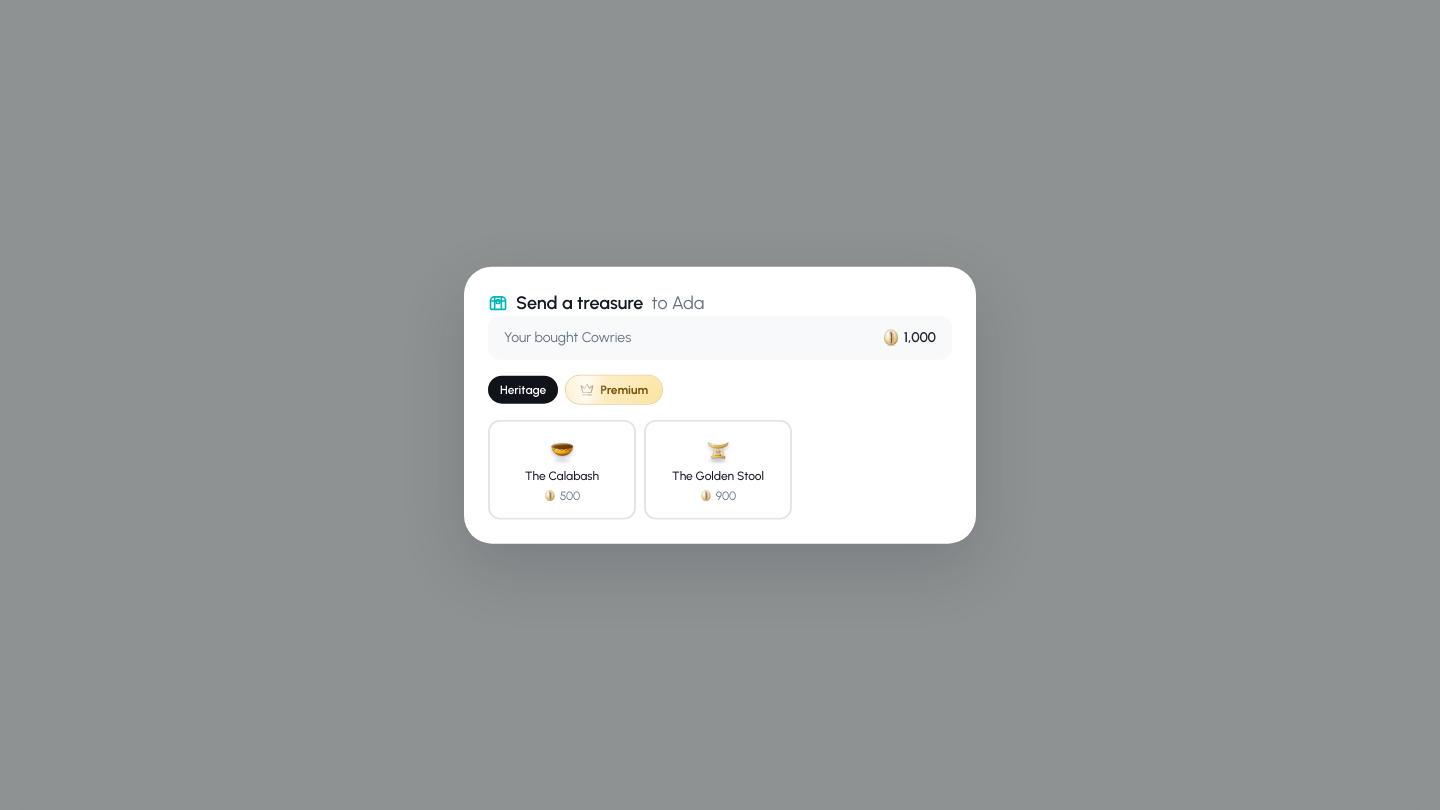
previewing a treasure before sending it › previews the chosen treasure with its name and price
Click the button "The Calabash 500" at point(562, 469), box [488,419,636,519]
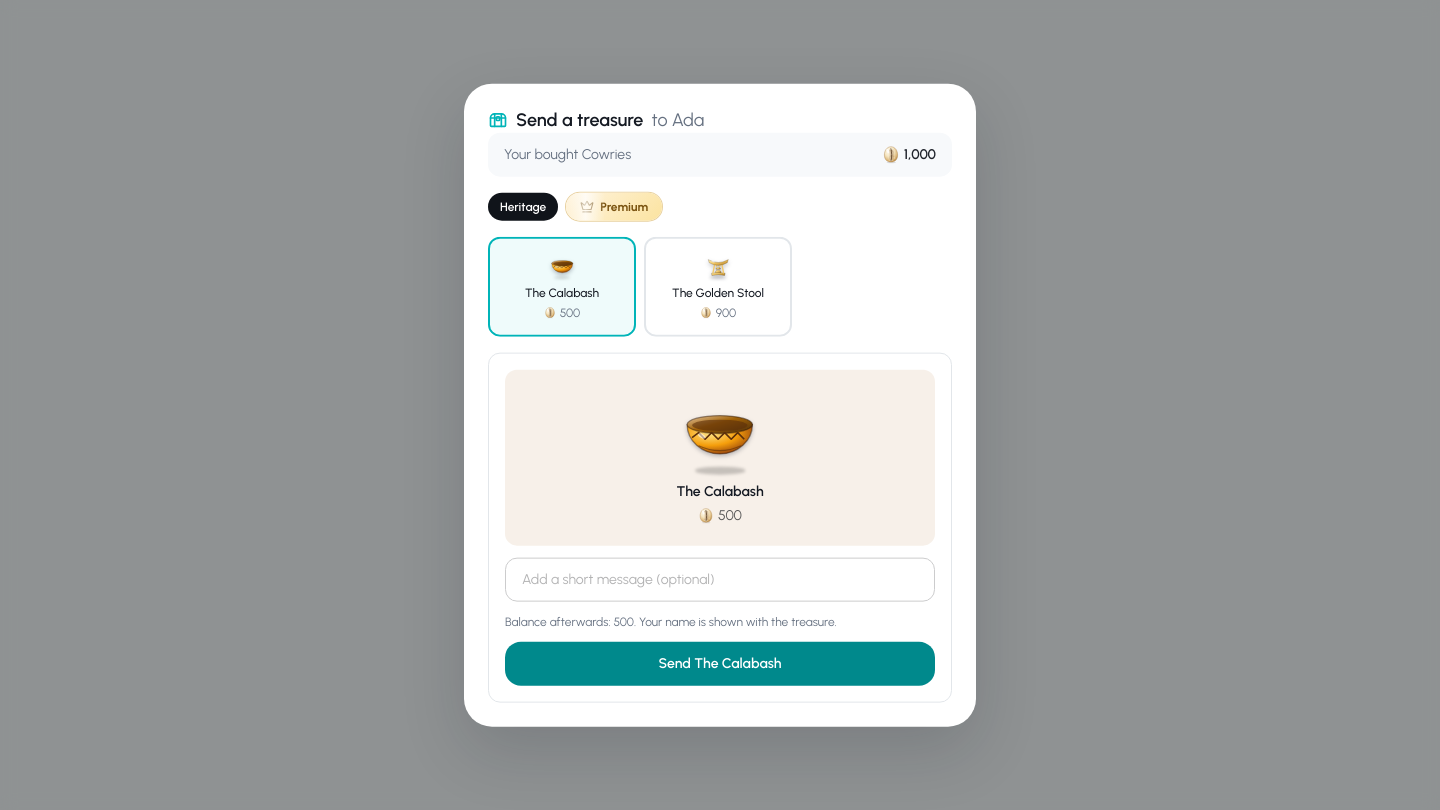
Expected: the 2nd text "The Calabash" is shown, [676,481,764,501]
Expected: the 2nd text "500" is shown, [698,505,742,525]
Expected: the button "Send The Calabash" is shown, [505,641,935,685]
